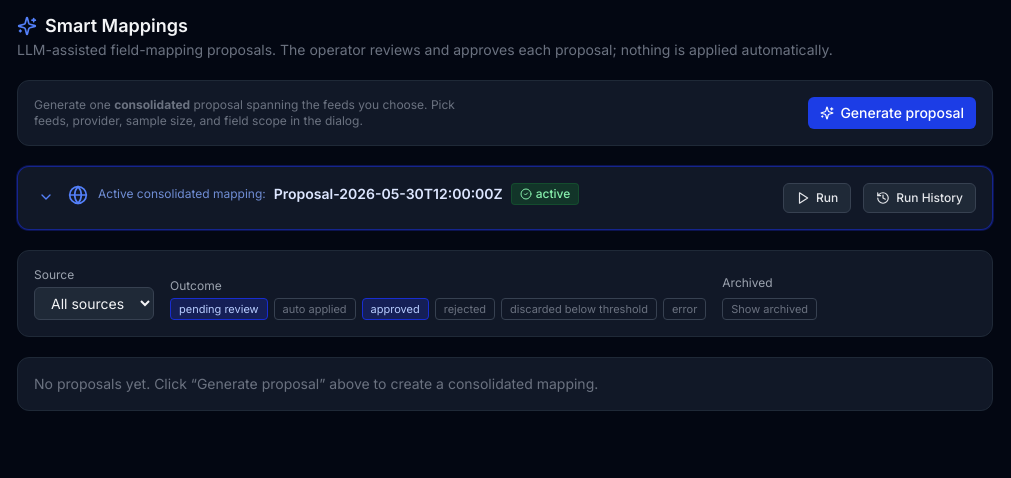
Test: SmartMappings page — active mapping card (prompts-038) › Run button re-applies the active mapping and surfaces the counters
What coordinates should you click on to do the following:
click the button "Run"
I would click on:
 (817, 198)
Its box is [783,183,851,213].
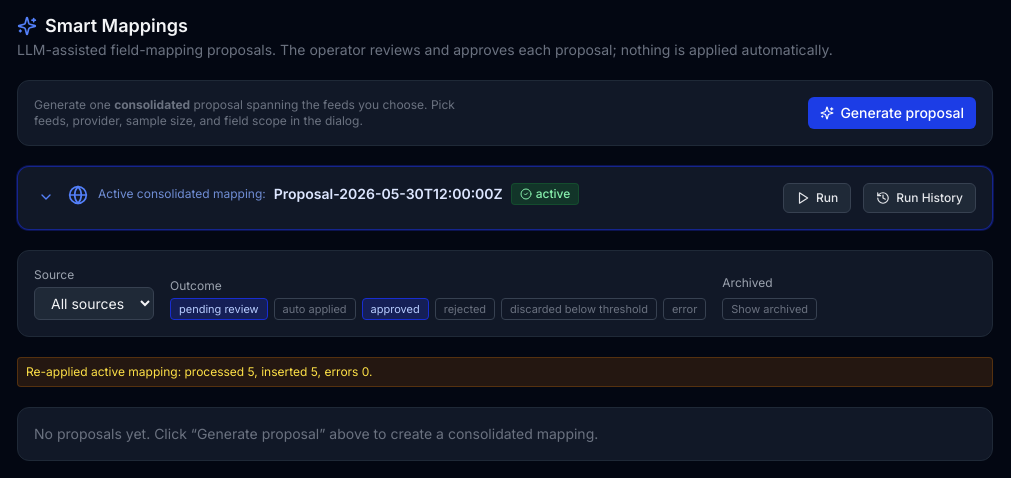
Expected: the text "processed 5" is shown, [26,364,372,379]
